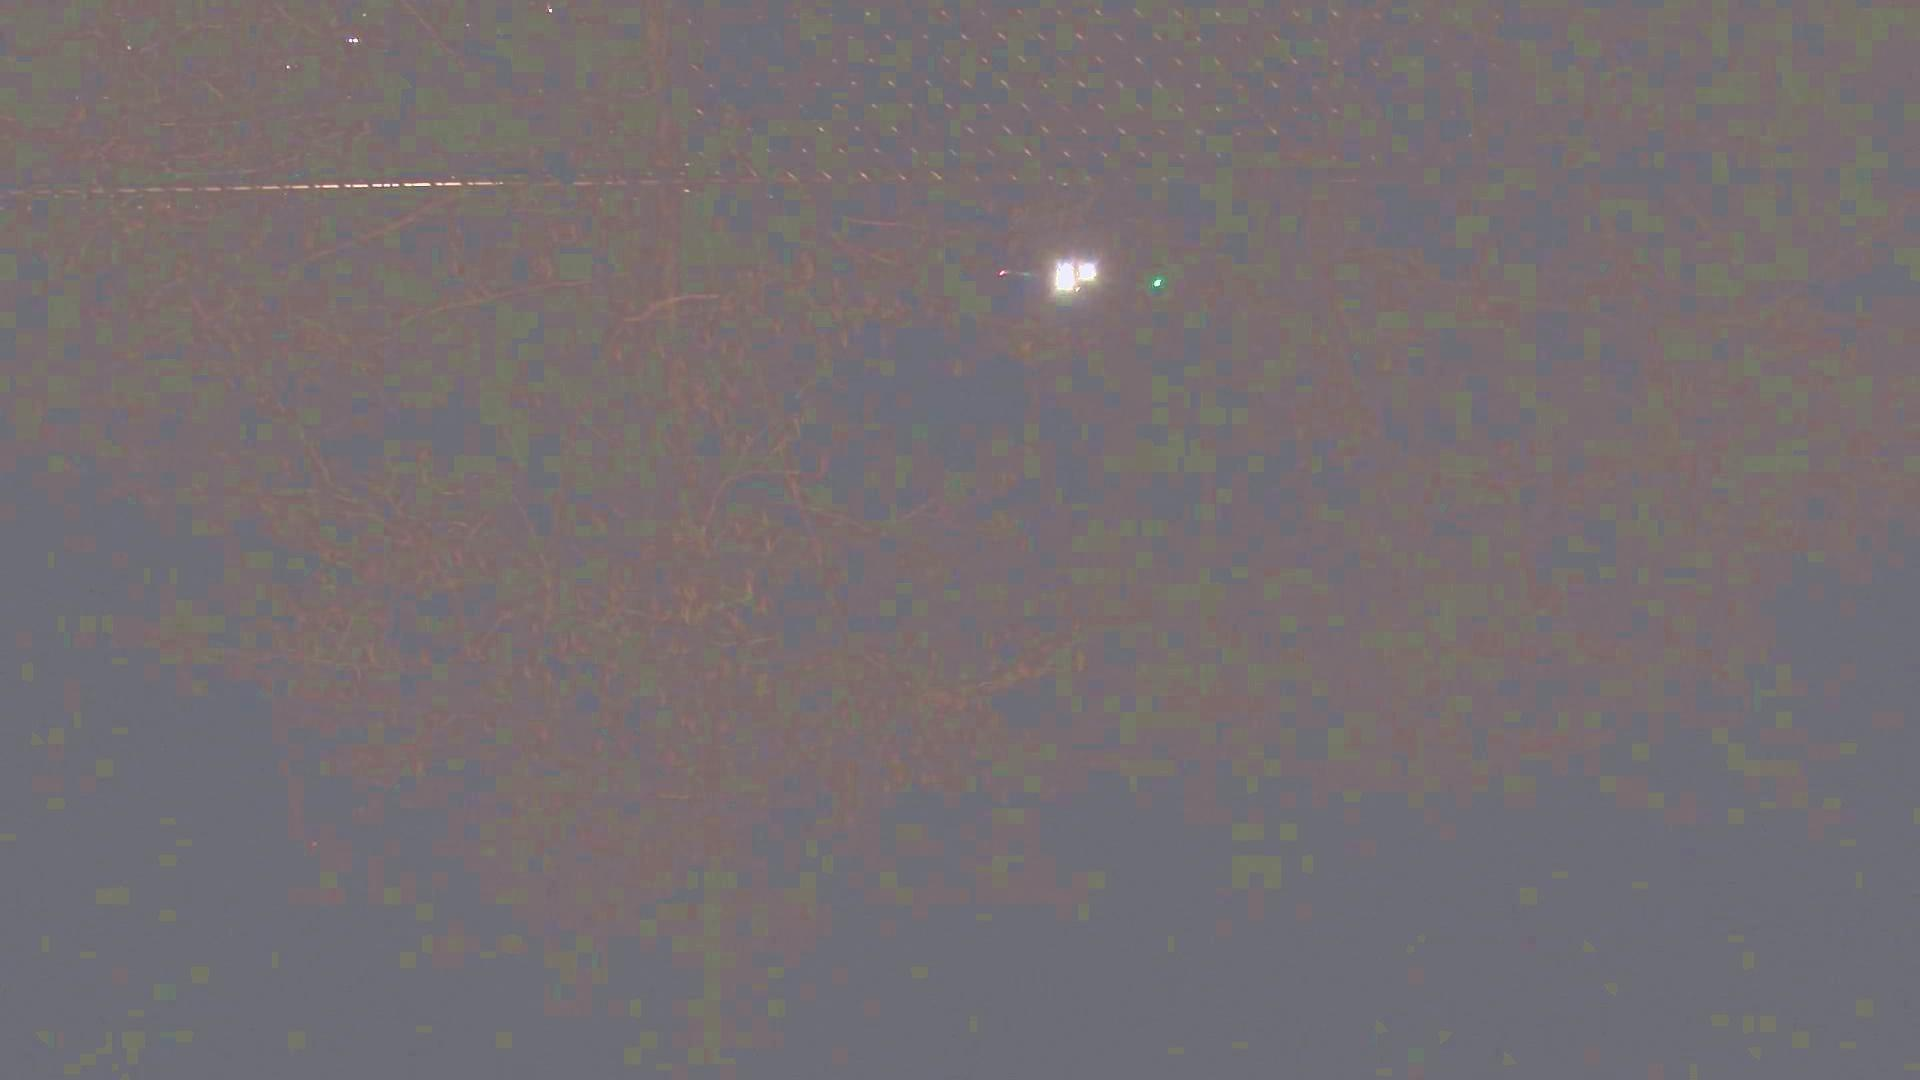Plane: (953, 244, 1188, 309)
